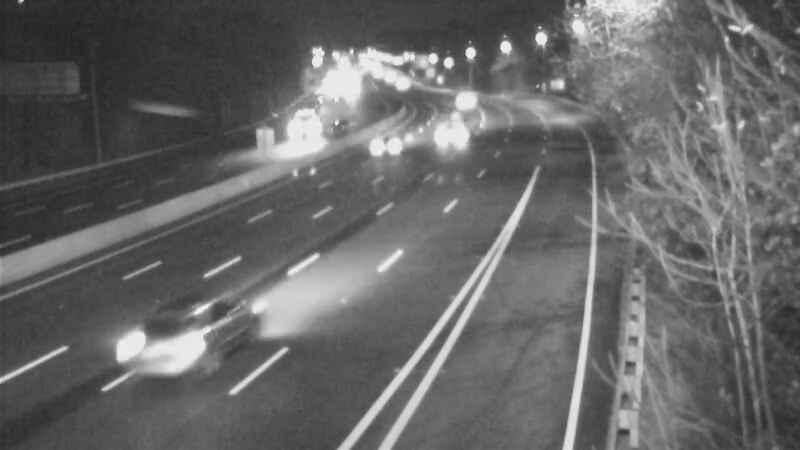vehicle: (105, 294, 215, 404), (437, 70, 487, 120), (432, 97, 482, 147), (360, 110, 410, 160), (278, 114, 328, 164)
